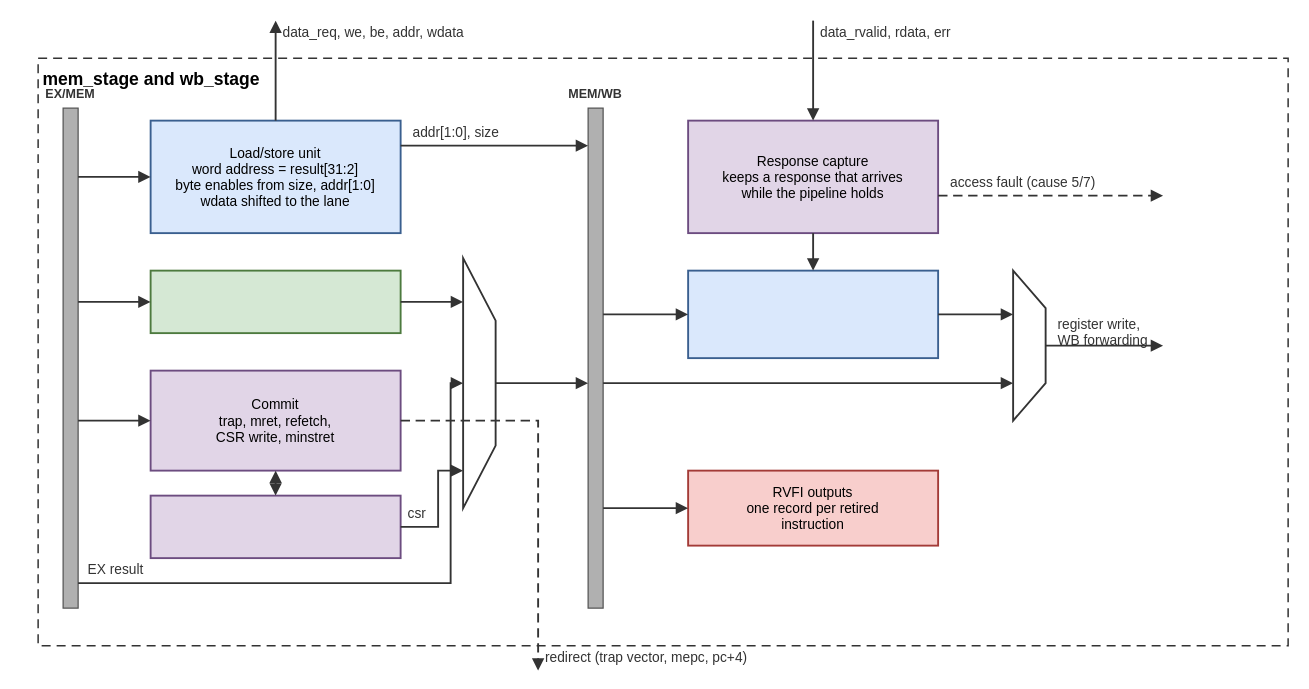
Some shapes in this 1309 by 689 pixel diagram are drawn without their labels. Each missing label, with the centre of its shape:
"csr_unit" goes at [275,526].
"Load align and extend shift by addr[1:0], sign- or zero-extend" goes at [812,313].
"mul (M)" goes at [275,301].
